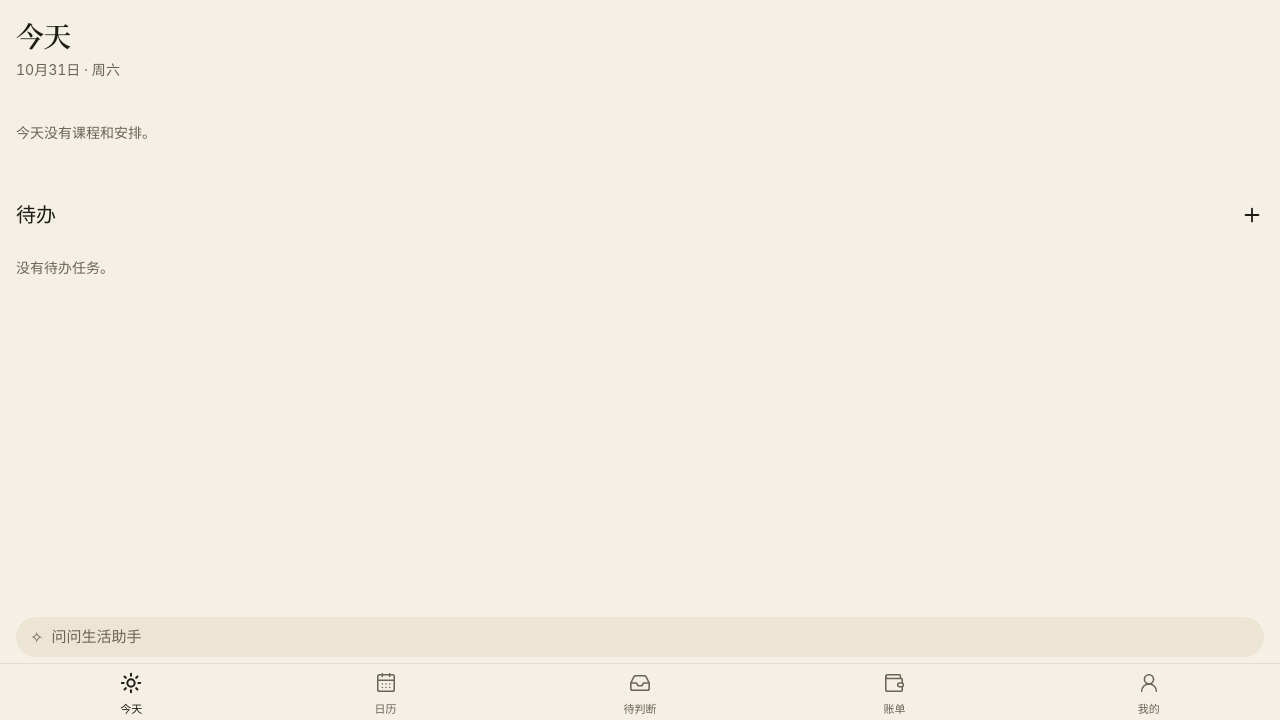
Scenario: phone layout › opens today with five tabs, stays quiet while connected and keeps desktop-only settings out
Check: the element named "今天的安排" is shown, box [16,124,156,141]
Click the button "我的": (1149, 692) [1022,664,1276,719]
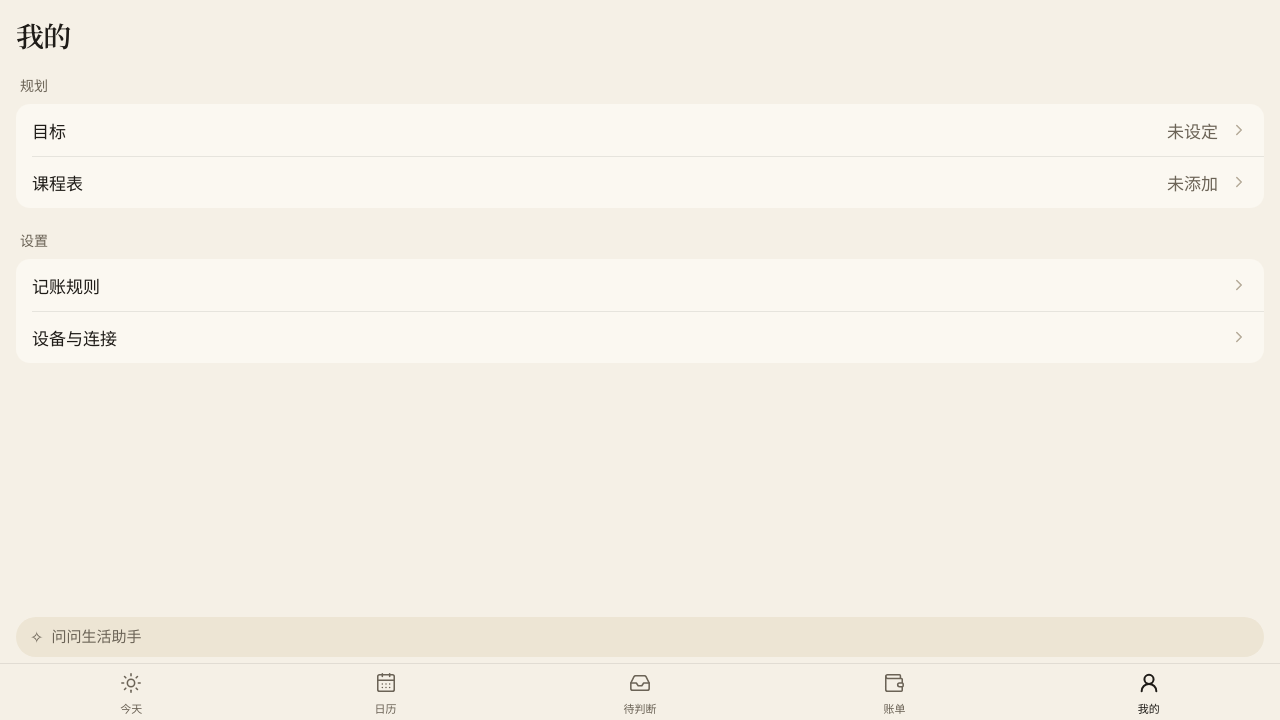
Check: the button "目标 未设定" is shown, box [16,104,1264,156]
Click the button "设备与连接": (74, 338) [16,311,1264,363]
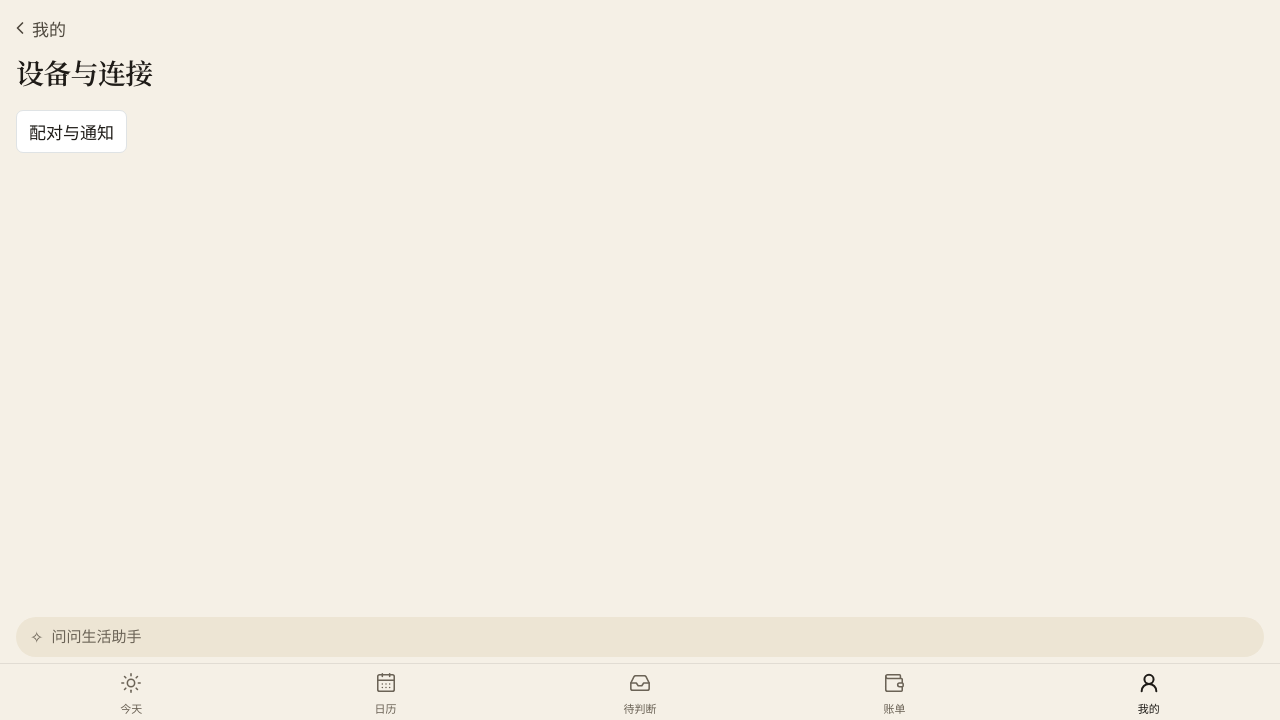
Check: the button "配对与通知" is shown, box [16,110,127,153]
Click the button with aria-label "返回我的": (41, 28) [8,6,74,50]
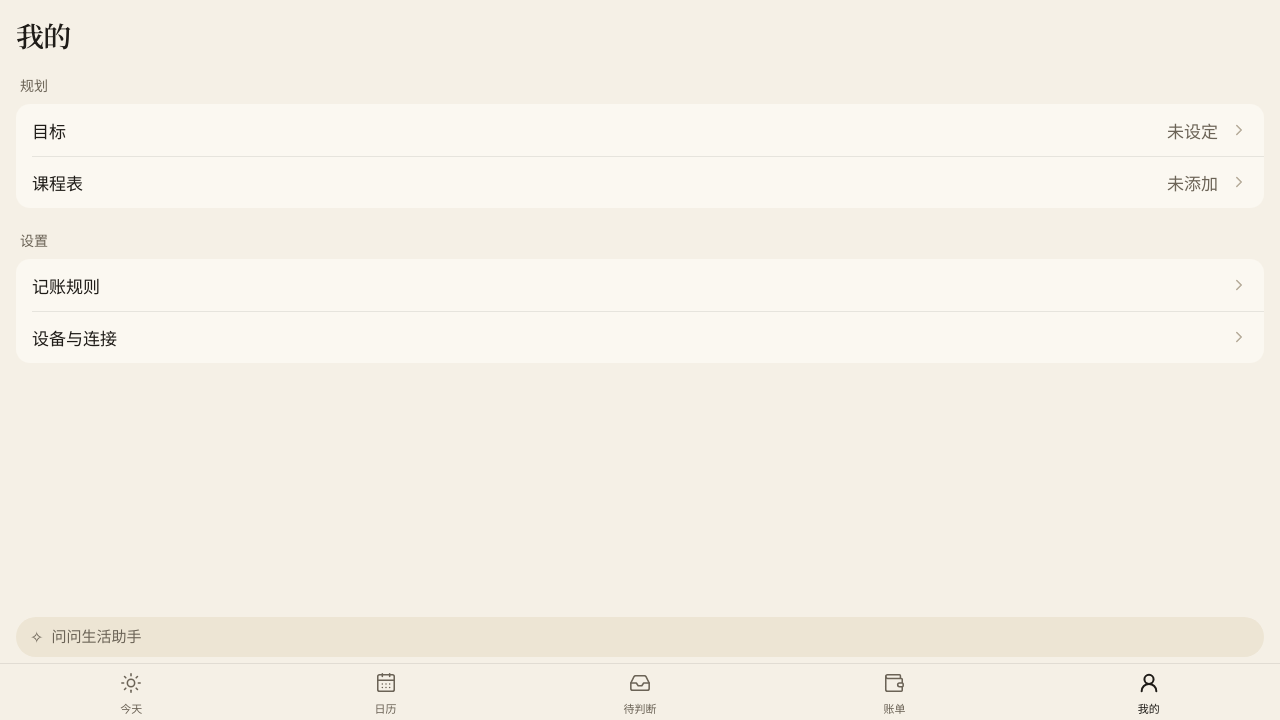
Check: the button "记账规则" is shown, box [16,259,1264,311]
